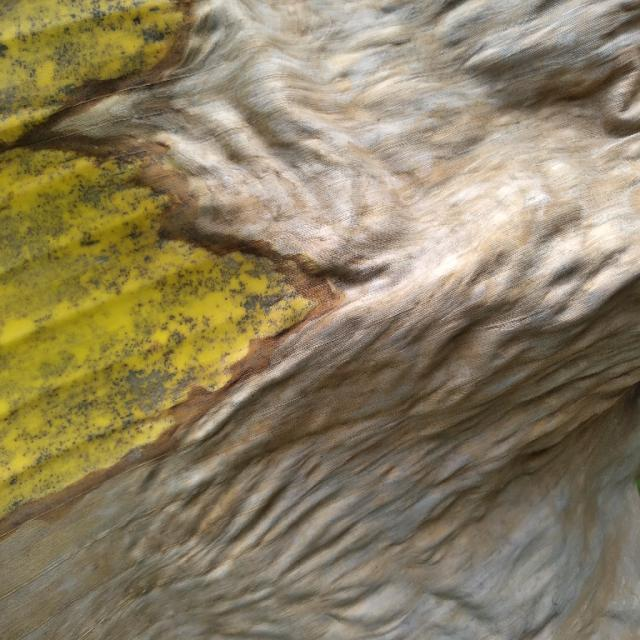Early_rust: (0, 0, 381, 519)
